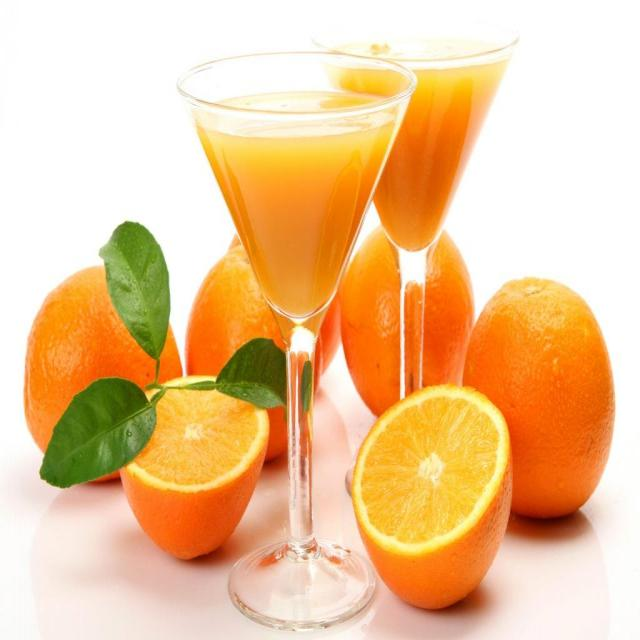orange: (460, 274, 616, 531), (348, 386, 514, 616), (22, 260, 180, 490), (185, 246, 308, 475), (122, 371, 264, 569), (340, 219, 474, 421)
